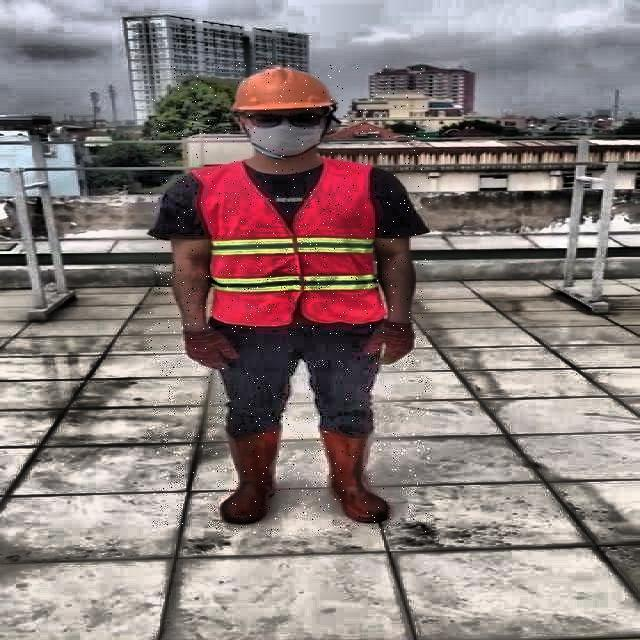safety_helmet: (228, 64, 336, 112)
safety_jacket: (198, 158, 382, 326)
